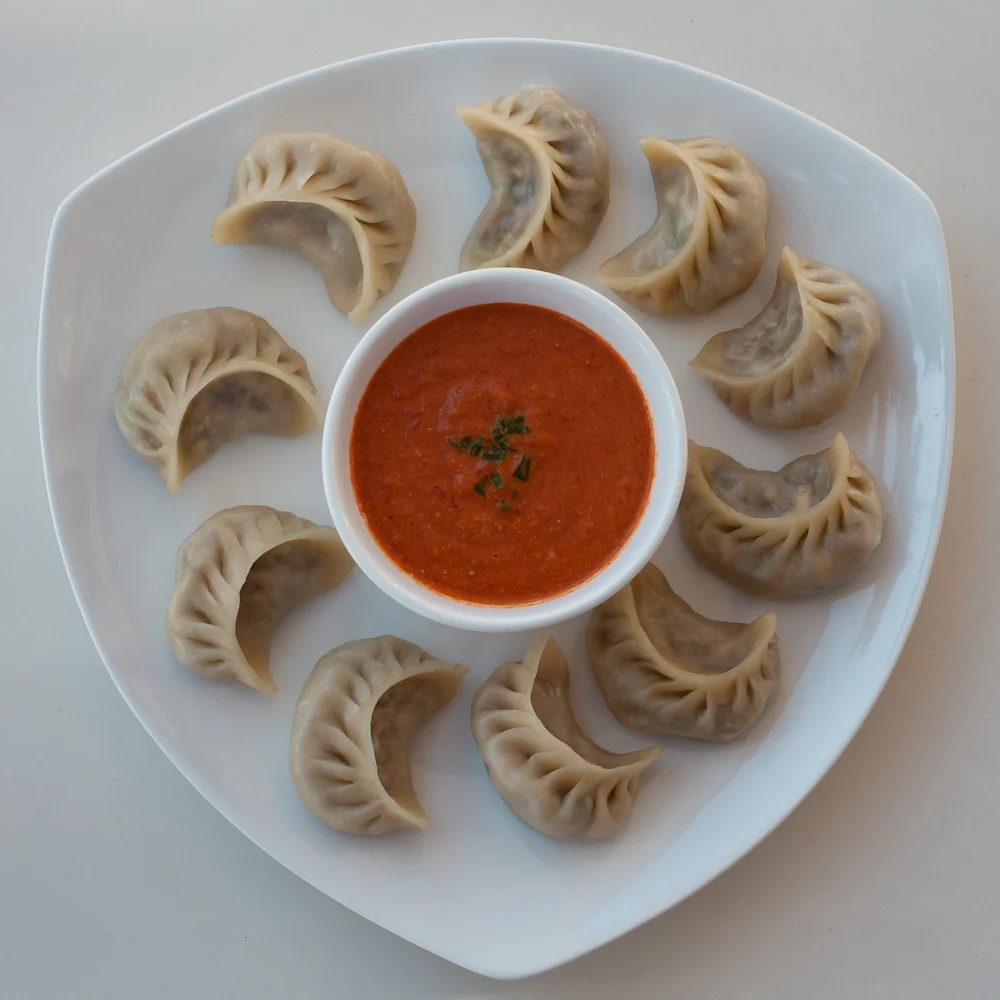momo: (212, 124, 417, 321), (109, 308, 325, 490), (475, 637, 659, 846), (159, 505, 356, 700), (289, 632, 466, 840), (672, 432, 888, 601), (590, 560, 781, 751), (690, 246, 881, 431), (457, 80, 606, 282), (612, 129, 769, 308)
